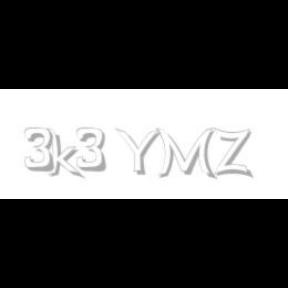3: (24, 128, 56, 172), (76, 128, 107, 172)
M: (156, 128, 215, 180)
Y: (114, 128, 160, 176)
Z: (215, 128, 252, 178)
k: (46, 128, 84, 180)
